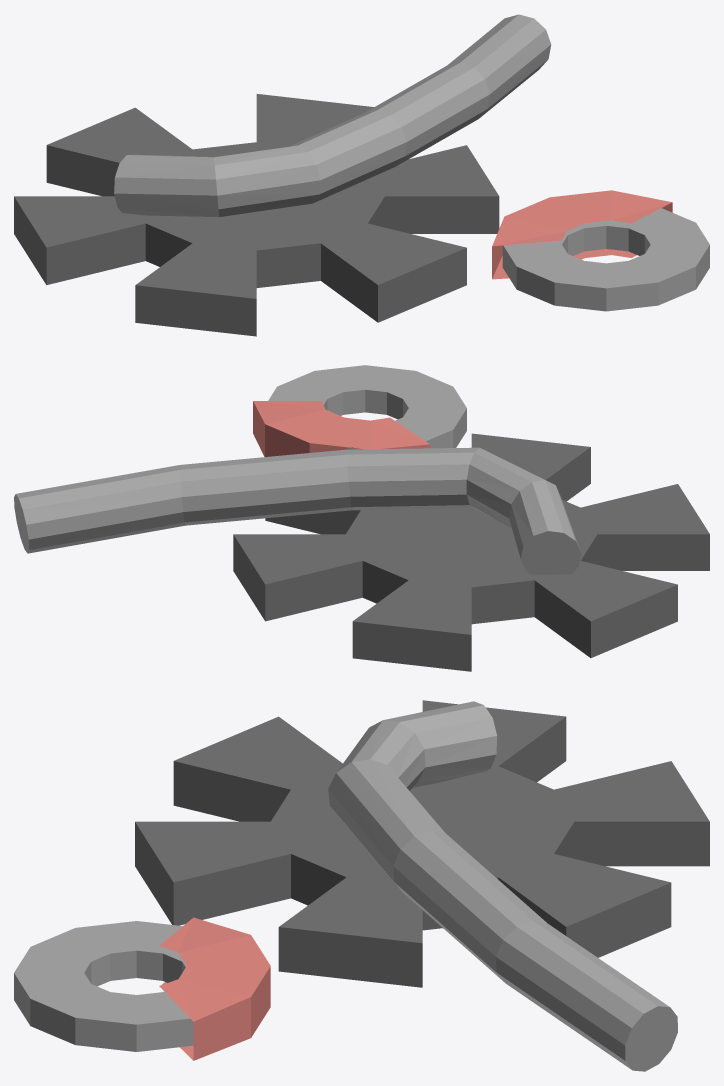
File: Scrap.fbx
The picture shows the model from 3 angles, top to bottom: view 1: azimuth 30°, elevation 25°; view 2: azimuth 150°, elevation 25°; view 3: azimuth 270°, elevation 25°; orthographic projection. The views are drawn at different scales.
Visible parts, largest first — view 1: Цилиндр.002; view 2: Цилиндр.002; view 3: Цилиндр.002.
Part boxes in pixels (x1,y1,x2,y2): Цилиндр.002: [14, 14, 709, 336]; Цилиндр.002: [14, 365, 709, 671]; Цилиндр.002: [14, 700, 709, 1071].
Size of the model in its own units: 175 by 30.65 by 151.
